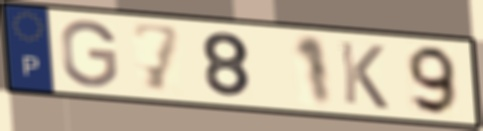1: (291, 34, 336, 109)
7: (129, 20, 184, 96)
8: (200, 30, 254, 100)
9: (402, 44, 461, 118)
G: (59, 18, 121, 90)
K: (336, 39, 392, 112)
